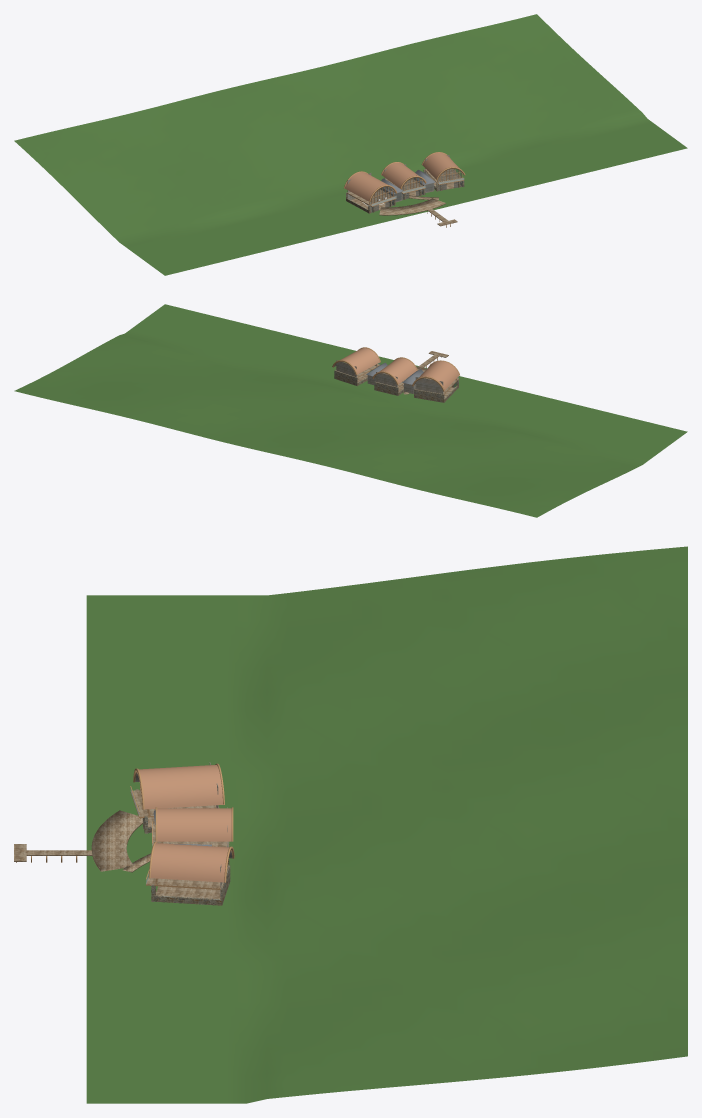
File: complexe-du-lac.glb
3 renders of one model, top to bottom at view 1: azimuth 30°, elevation 25°; view 2: azimuth 150°, elevation 25°; view 3: azimuth 270°, elevation 25°, orthographic. The views are drawn at different scales.
Parts seen in each view (by area): view 1: sol-terrain, pav-ouest-toit, sol-terrasse, pav-centre-toit, pav-est-toit; view 2: sol-terrain, pav-ouest-toit, pav-est-toit, pav-centre-toit; view 3: sol-terrain, pav-ouest-toit, pav-est-toit, pav-centre-toit, sol-terrasse.
Boxes of the visible parts, x1,y1,x2,y2 form: sol-terrain: (14, 14, 687, 275); pav-ouest-toit: (344, 172, 387, 201); sol-terrasse: (379, 198, 445, 215); pav-centre-toit: (382, 162, 419, 188); pav-est-toit: (422, 152, 459, 178); sol-terrain: (14, 304, 687, 517); pav-ouest-toit: (419, 361, 459, 390); pav-est-toit: (340, 348, 379, 374); pav-centre-toit: (379, 358, 416, 383); sol-terrain: (86, 546, 687, 1103); pav-ouest-toit: (139, 765, 223, 809); pav-est-toit: (150, 843, 229, 882); pav-centre-toit: (157, 808, 231, 841); sol-terrasse: (91, 810, 148, 871).
Bounding box in the file's own units: 240 × 12.26 × 135.
15 materials, 3 textured.
